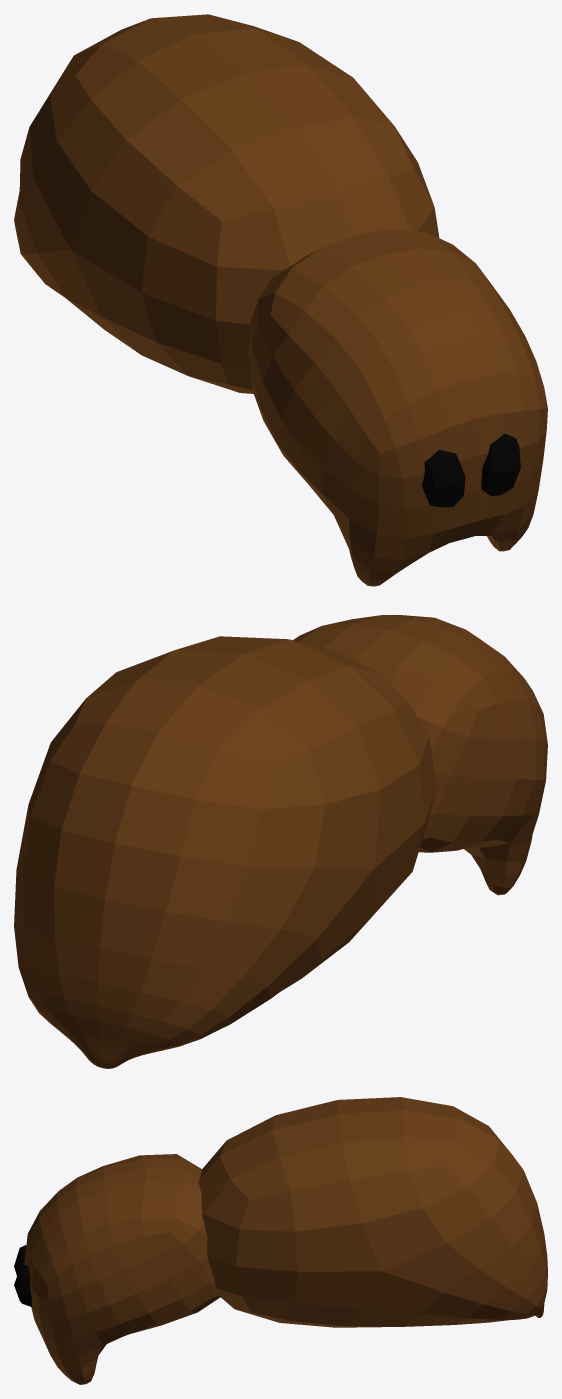
File: Spider_Cute_Arachnophobia.fbx
3 renders of one model, top to bottom at view 1: azimuth 30°, elevation 25°; view 2: azimuth 150°, elevation 25°; view 3: azimuth 270°, elevation 25°, orthographic. The views are drawn at different scales.
Visible parts, largest first — view 1: Cube.001, Cube, Cube.002, Cube.003; view 2: Cube.001, Cube; view 3: Cube.001, Cube, Cube.003.
Part boxes in pixels (box(x1,y1,x2,y2)): Cube.001: box(14, 14, 439, 393); Cube: box(248, 229, 547, 586); Cube.002: box(422, 450, 465, 507); Cube.003: box(481, 433, 520, 496); Cube.001: box(14, 636, 436, 1068); Cube: box(293, 615, 547, 895); Cube.001: box(198, 1097, 547, 1327); Cube: box(24, 1154, 221, 1384); Cube.003: box(14, 1265, 32, 1306).
Bounding box in the file's own units: 26.28 × 30.13 × 58.38.
